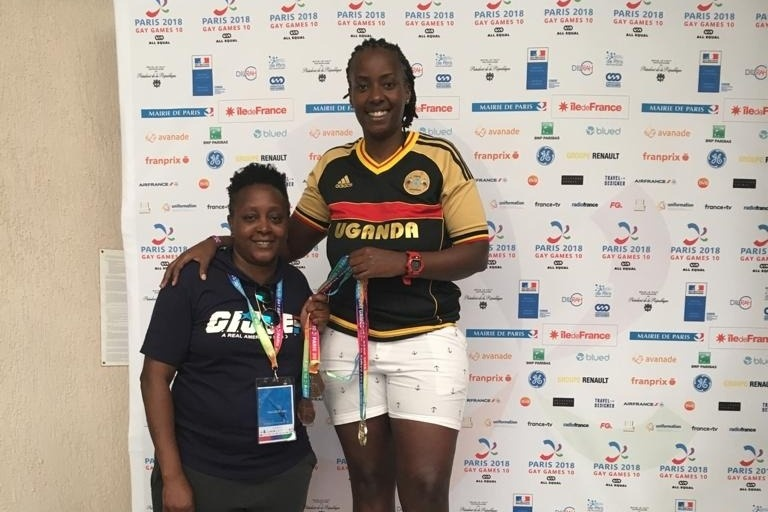mouth: (364, 106, 389, 122), (251, 236, 273, 250)
nose: (365, 94, 385, 104), (255, 226, 271, 235)
